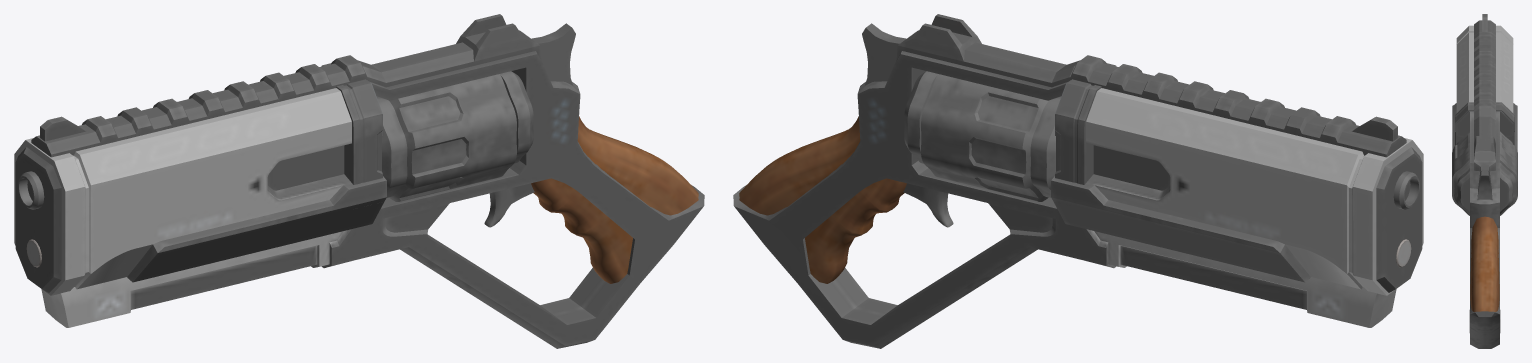
Rendered from q-scifi-ess-gun-revolver.glb.
3 views of the same model, side by side, from view 1: azimuth 30°, elevation 25°; view 2: azimuth 150°, elevation 25°; view 3: azimuth 270°, elevation 25° (orthographic). The views are drawn at different scales.
Parts seen in each view (by area): view 1: Gun_Revolver, Gun_Revolver_Barrel; view 2: Gun_Revolver, Gun_Revolver_Barrel; view 3: Gun_Revolver, Gun_Revolver_Barrel.
Part boxes in pixels (box(x1,y1,x2,y2)): Gun_Revolver: box(14, 14, 704, 348); Gun_Revolver_Barrel: box(376, 71, 533, 201); Gun_Revolver: box(733, 14, 1423, 348); Gun_Revolver_Barrel: box(904, 71, 1061, 201); Gun_Revolver: box(1452, 14, 1517, 348); Gun_Revolver_Barrel: box(1452, 131, 1517, 215).
Size of the model in its own units: 0.5306 by 0.2616 by 0.0814.
Materials: 1 (1 with a texture image).
